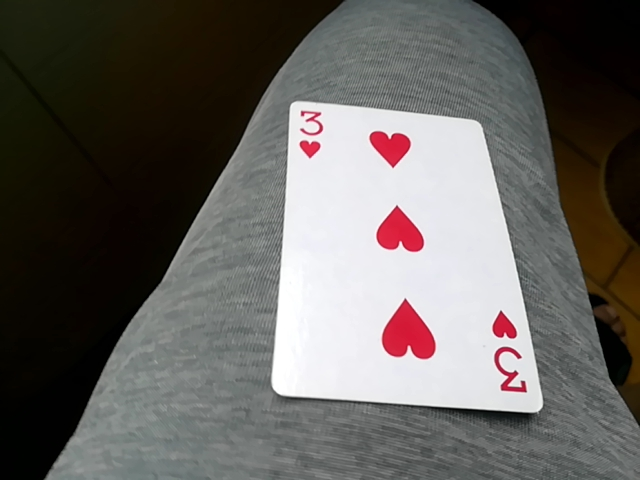hx 3: (274, 95, 537, 419)
